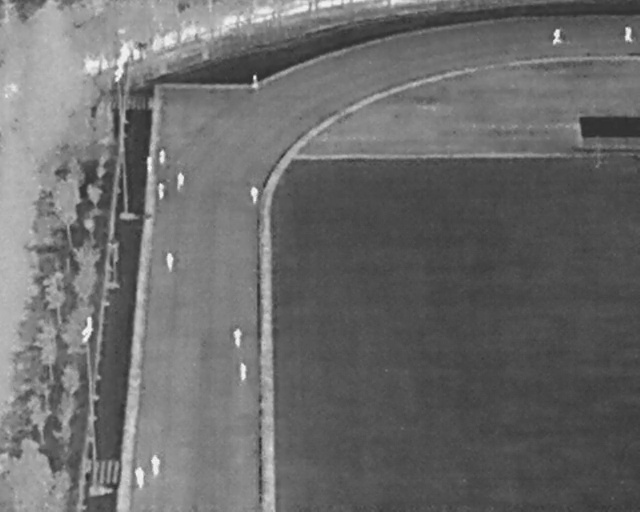Person: (135, 466, 146, 489), (150, 455, 160, 477), (232, 328, 242, 347), (250, 185, 259, 204), (166, 252, 174, 272), (239, 362, 247, 382), (624, 26, 633, 43), (146, 156, 154, 175), (157, 182, 165, 201), (176, 172, 184, 191), (553, 28, 561, 45), (159, 149, 166, 166), (252, 74, 259, 89)
